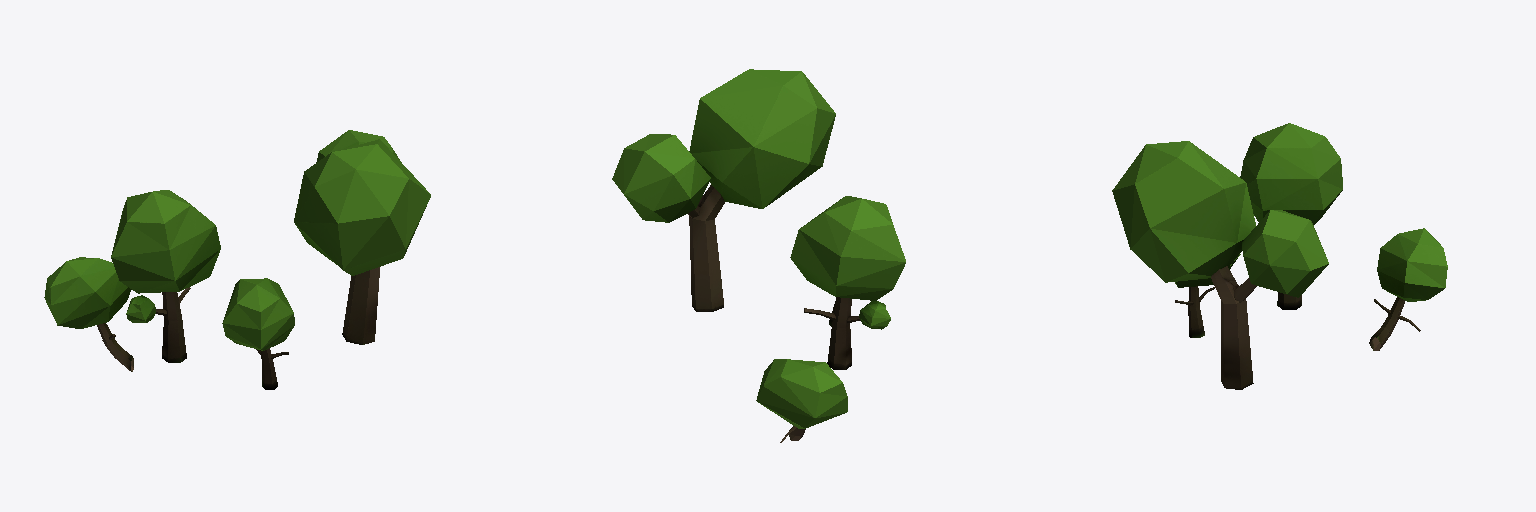
3 views of the same model, side by side, from view 1: azimuth 30°, elevation 25°; view 2: azimuth 150°, elevation 25°; view 3: azimuth 270°, elevation 25° (orthographic).
Parts seen in each view (by area): view 1: trees.001_Cylinder.1432; view 2: trees.001_Cylinder.1432; view 3: trees.001_Cylinder.1432.
Boxes of the visible parts, <box> form: trees.001_Cylinder.1432: <box>44,130,430,389</box>; trees.001_Cylinder.1432: <box>612,69,905,442</box>; trees.001_Cylinder.1432: <box>1112,123,1447,389</box>.
Bounding box in the file's own units: 7.4 × 6.57 × 7.56.
Materials: 1 (1 with a texture image).